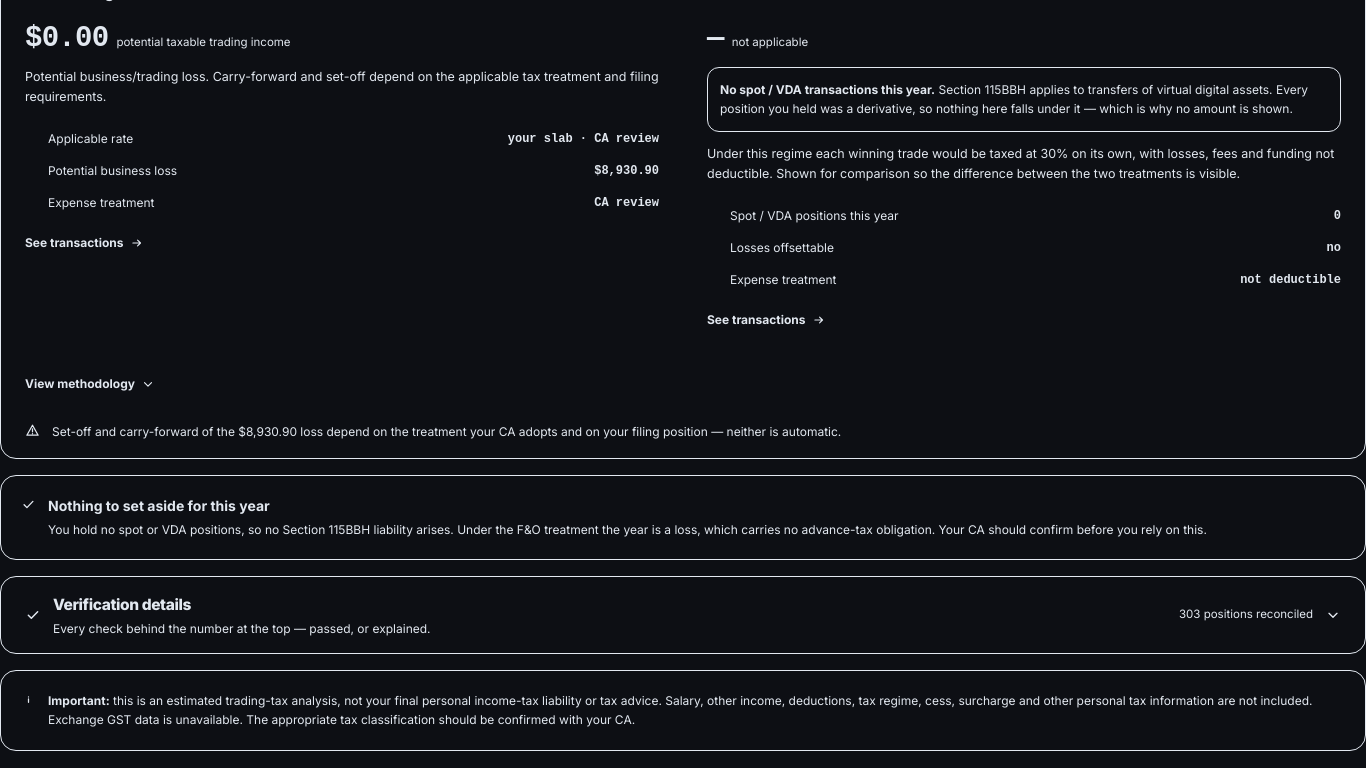
provenance comes from the API › renders the exact versions served, with no fixture fallback
(page scrolled)
Step 1. Click the button "View methodology" → (90, 384), box [25,376,155,392]
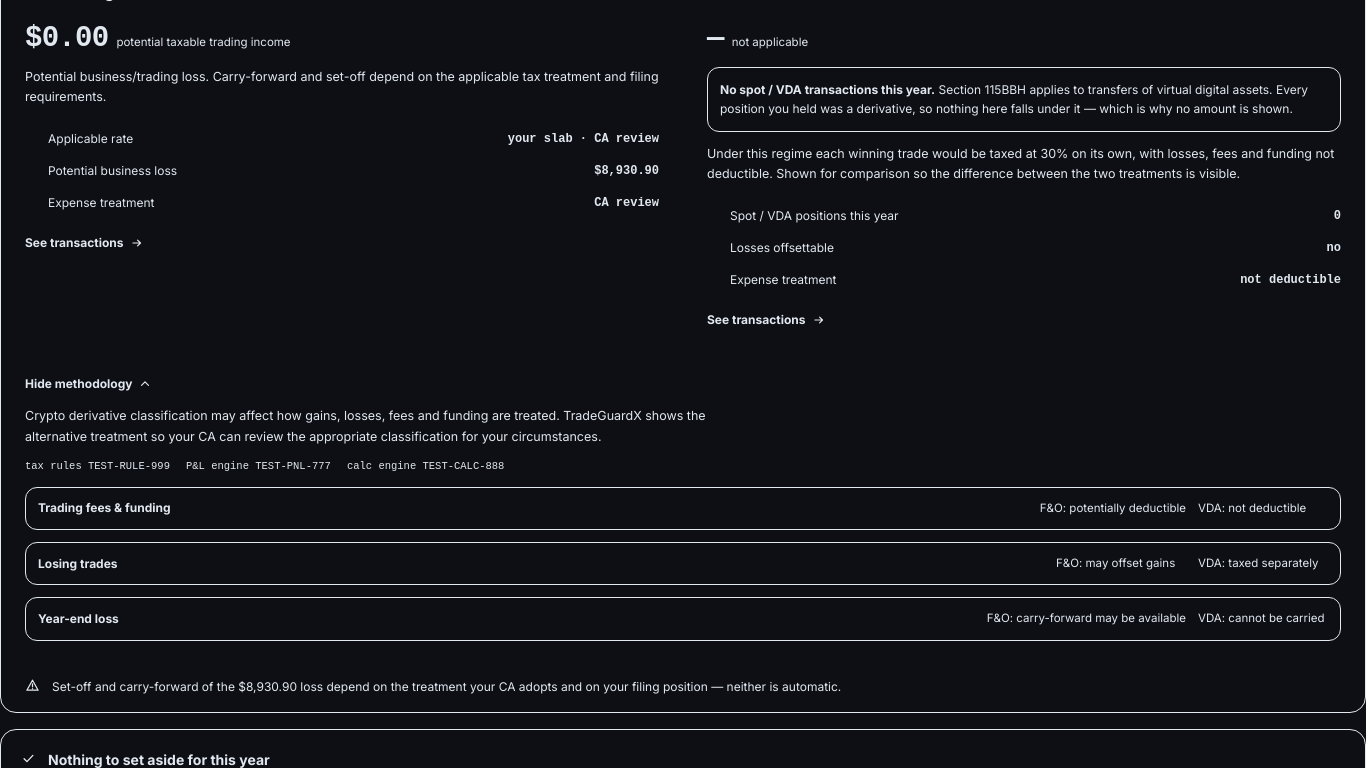
Result: the text "TEST-RULE-999" is shown at [88,460,170,472]
Result: the text "TEST-PNL-777" is shown at [255,460,331,472]
Result: the text "TEST-CALC-888" is shown at [422,460,504,472]
